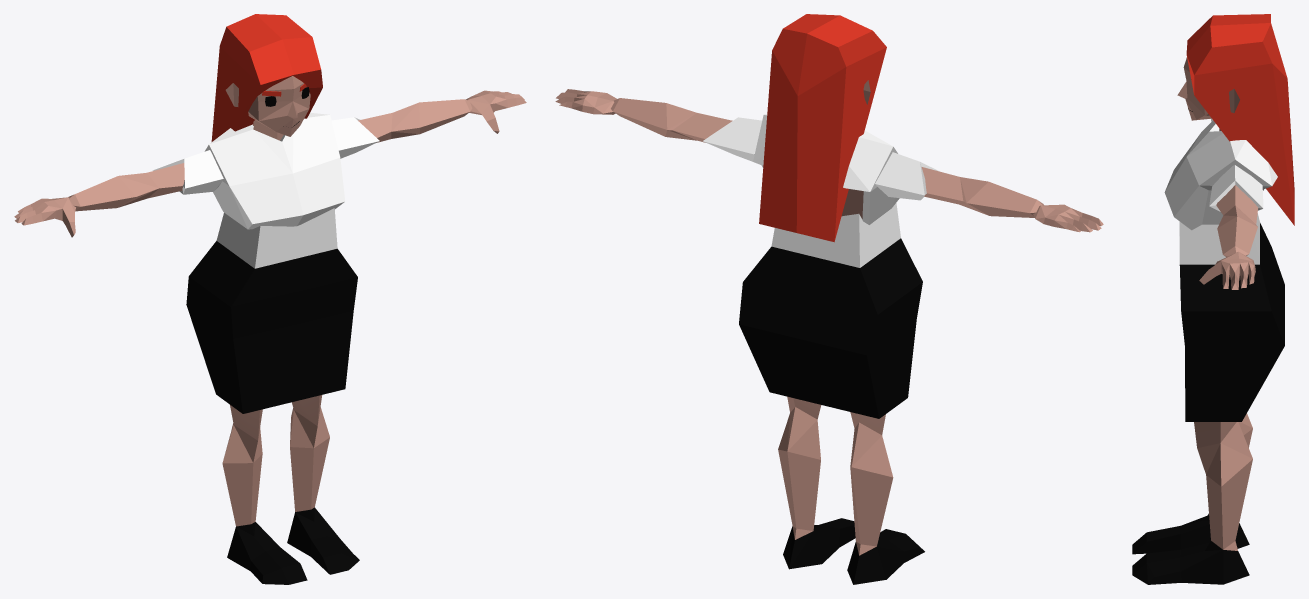
Rendered from Cientista_Mulher.fbx.
3 views of the same model, side by side, from view 1: azimuth 30°, elevation 25°; view 2: azimuth 150°, elevation 25°; view 3: azimuth 270°, elevation 25° (orthographic). The views are drawn at different scales.
Visible parts, largest first — view 1: Cientista_Molier_Full; view 2: Cientista_Molier_Full; view 3: Cientista_Molier_Full.
Boxes of the visible parts, x1,y1,x2,y2 form: Cientista_Molier_Full: (14, 14, 526, 584); Cientista_Molier_Full: (555, 14, 1103, 584); Cientista_Molier_Full: (1132, 14, 1294, 584).
Bounding box in the file's own units: 3813 × 3697 × 1010.
